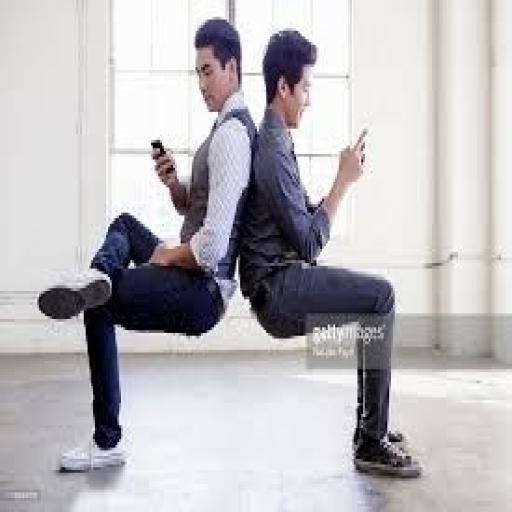sitting: (35, 14, 257, 473), (236, 25, 424, 481)
